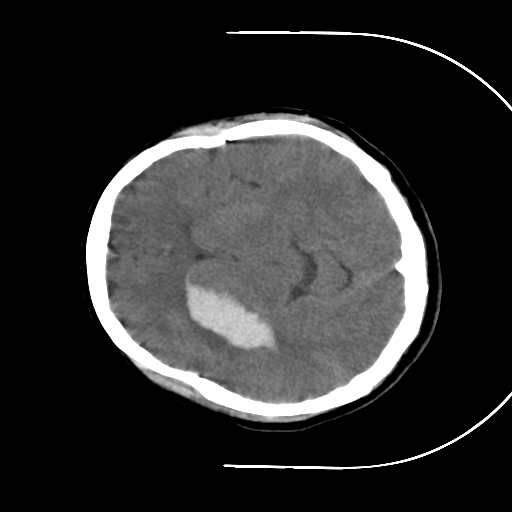a: (167, 258, 296, 371)
